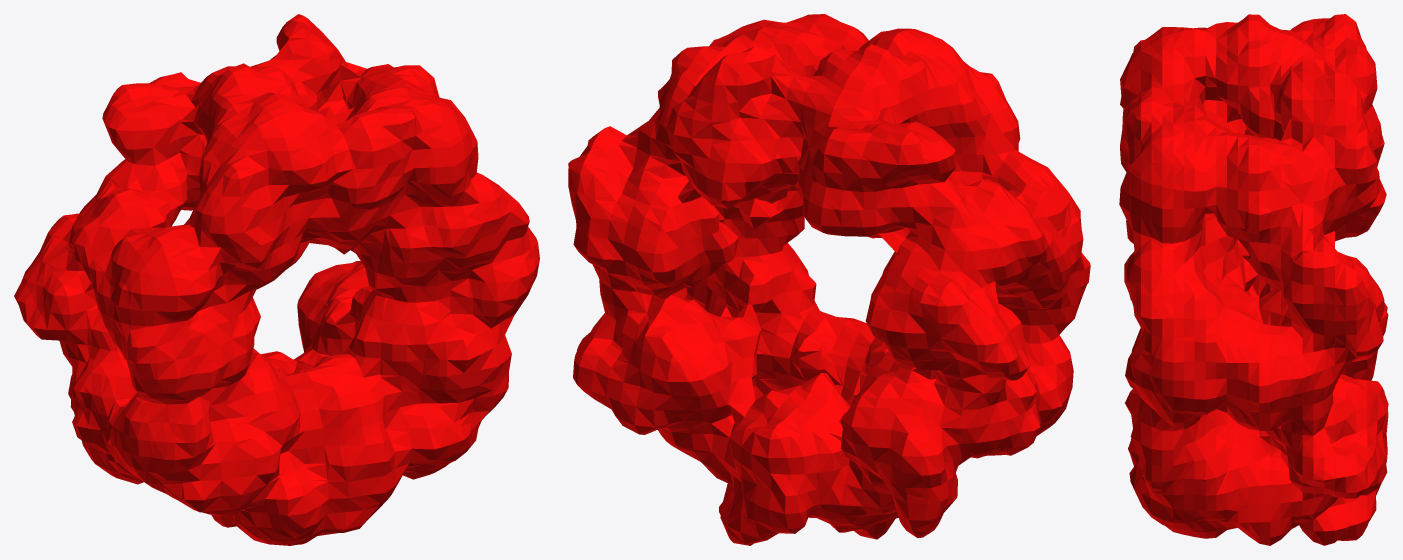
The model's file is groL_coarse.dae.
3 renders of one model, left to right at view 1: azimuth 30°, elevation 25°; view 2: azimuth 150°, elevation 25°; view 3: azimuth 270°, elevation 25°, orthographic. The views are drawn at different scales.
Visible parts, largest first — view 1: groL; view 2: groL; view 3: groL.
Part boxes in pixels (<box>): groL: <box>14,14,539,545</box>; groL: <box>568,14,1090,545</box>; groL: <box>1119,14,1388,545</box>.
Size of the model in its own units: 151 by 149 by 75.06.
